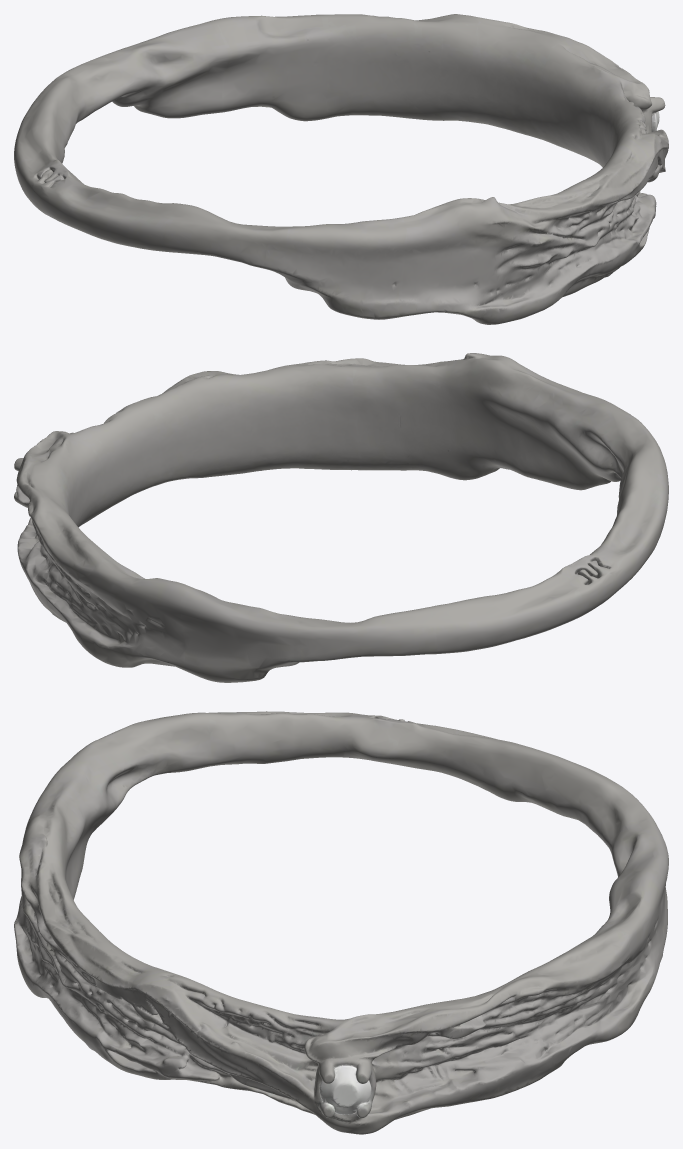
File: anillo-hero.glb
The picture shows the model from 3 angles, top to bottom: view 1: azimuth 30°, elevation 25°; view 2: azimuth 150°, elevation 25°; view 3: azimuth 270°, elevation 25°; orthographic projection. The views are drawn at different scales.
Visible parts, largest first — view 1: aiprintgen_node_3397ec39-4467-4a6f-b8d4-70a33c737a78; view 2: aiprintgen_node_3397ec39-4467-4a6f-b8d4-70a33c737a78; view 3: aiprintgen_node_3397ec39-4467-4a6f-b8d4-70a33c737a78.
Part boxes in pixels (x1,y1,x2,y2): aiprintgen_node_3397ec39-4467-4a6f-b8d4-70a33c737a78: (14, 14, 668, 324); aiprintgen_node_3397ec39-4467-4a6f-b8d4-70a33c737a78: (14, 353, 668, 682); aiprintgen_node_3397ec39-4467-4a6f-b8d4-70a33c737a78: (14, 711, 668, 1134).
Bounding box in the file's own units: 0.9998 × 0.2241 × 0.8713.
1 material, 1 textured.
